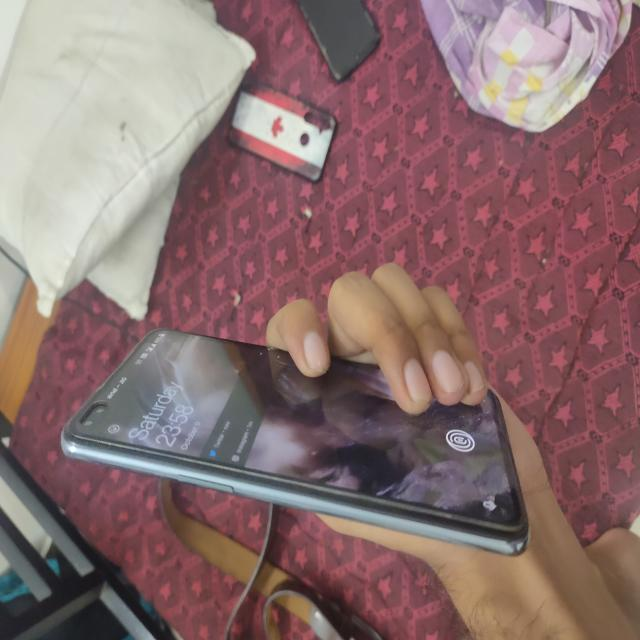Phone: (59, 328, 533, 558), (223, 82, 339, 188), (294, 0, 384, 84)
